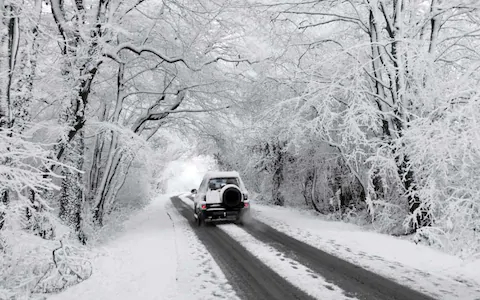car: (191, 170, 247, 225)
